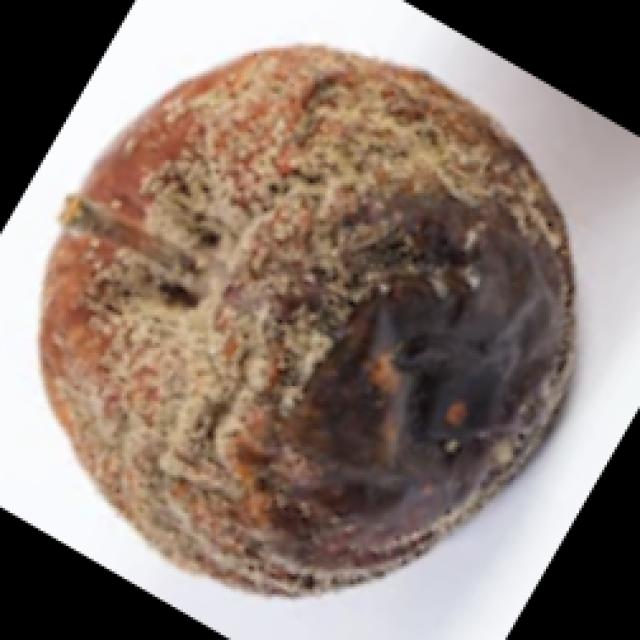Rotten: (24, 36, 586, 597)
